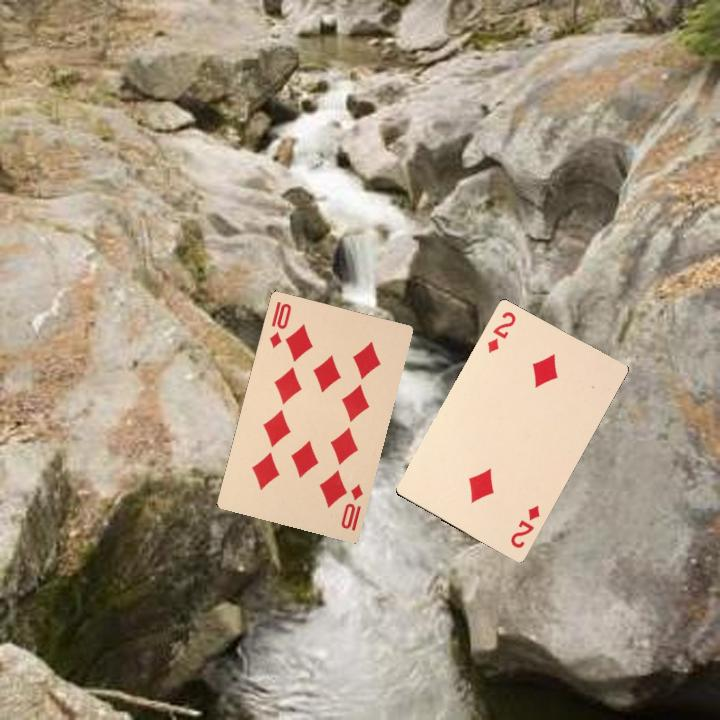10d: (265, 297, 294, 350), (337, 480, 366, 533)
2d: (506, 502, 542, 551), (483, 307, 518, 355)
